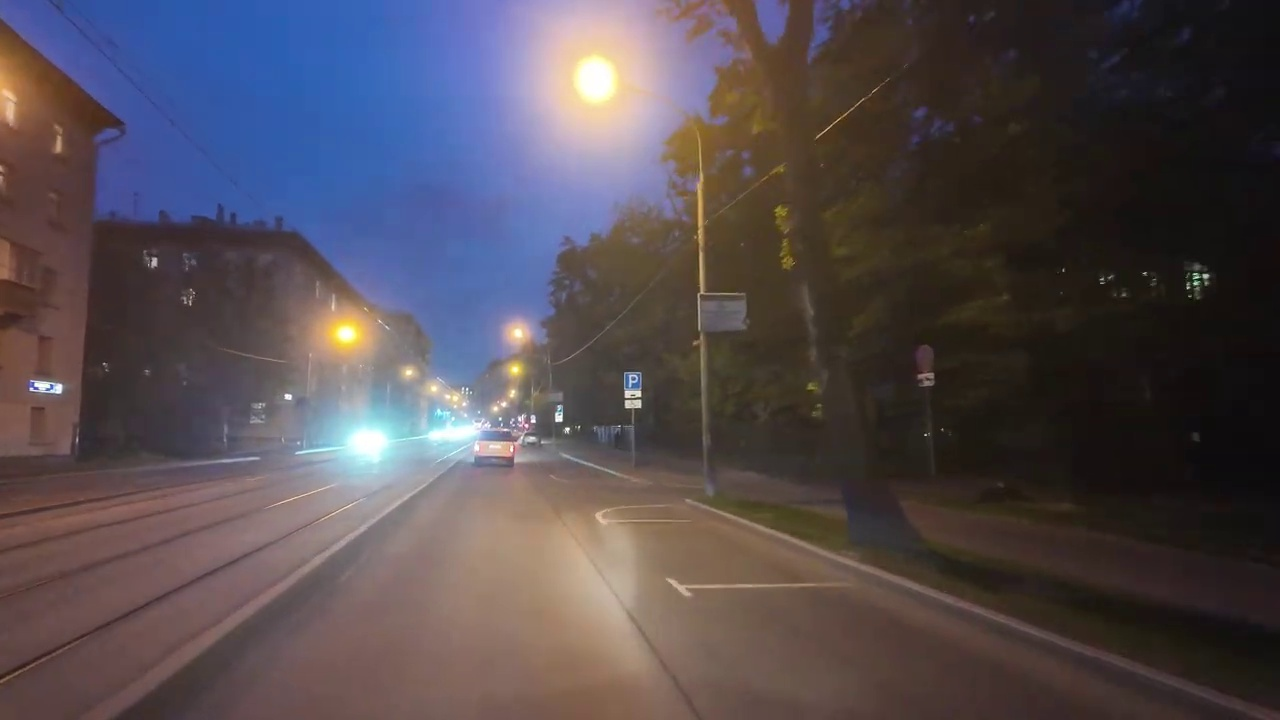acesa: (562, 47, 626, 117), (324, 316, 366, 357), (0, 69, 16, 126), (504, 319, 532, 347)
